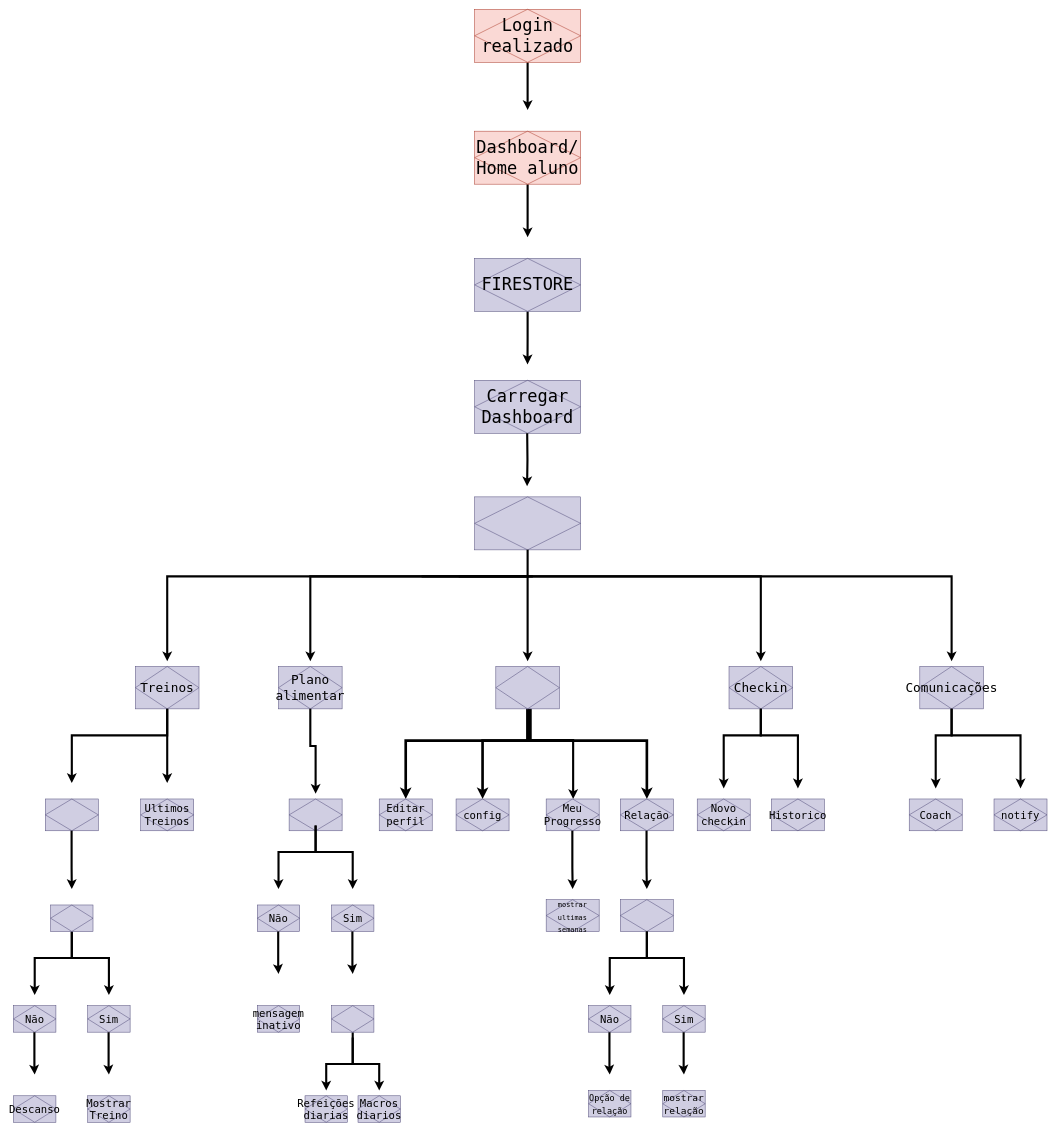
This 1056x1132 diagram has some shape labels left out. The shapes that lost their labels are listed below. From the top down, each one's centre as x and y in pixels, then its label:
At point (527, 523): "Mostrar".
At point (527, 687): "Perfil".
At point (71, 814): "Treino do dia".
At point (315, 814): "Dieta encontrada?".
At point (71, 917): "Tem treino?".
At point (646, 915): "Tem relação?".
At point (352, 1018): "Abrir dieta".
